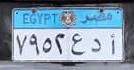2: (53, 32, 66, 57)
5: (42, 35, 52, 56)
7: (15, 33, 27, 58)
9: (28, 34, 40, 57)
ain: (70, 32, 87, 58)
alif: (109, 31, 117, 58)
daal: (90, 36, 102, 55)
